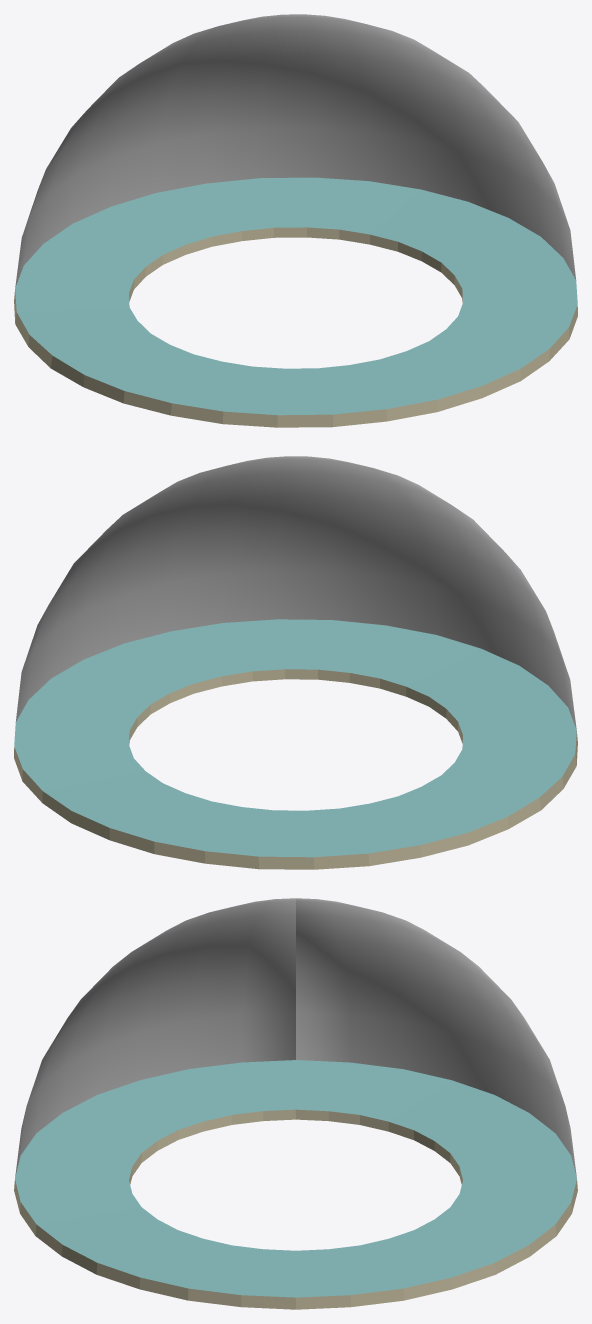
Rendered from SphereGround.gltf.
3 views of the same model, one above another, from view 1: azimuth 30°, elevation 25°; view 2: azimuth 150°, elevation 25°; view 3: azimuth 270°, elevation 25° (orthographic).
Visible parts, largest first — view 1: CircleGround; view 2: CircleGround; view 3: CircleGround.
Part boxes in pixels (<box>): CircleGround: <box>14,14,577,427</box>; CircleGround: <box>14,456,577,869</box>; CircleGround: <box>14,898,577,1309</box>.
Size of the model in its own units: 60.83 by 31.77 by 60.83.
